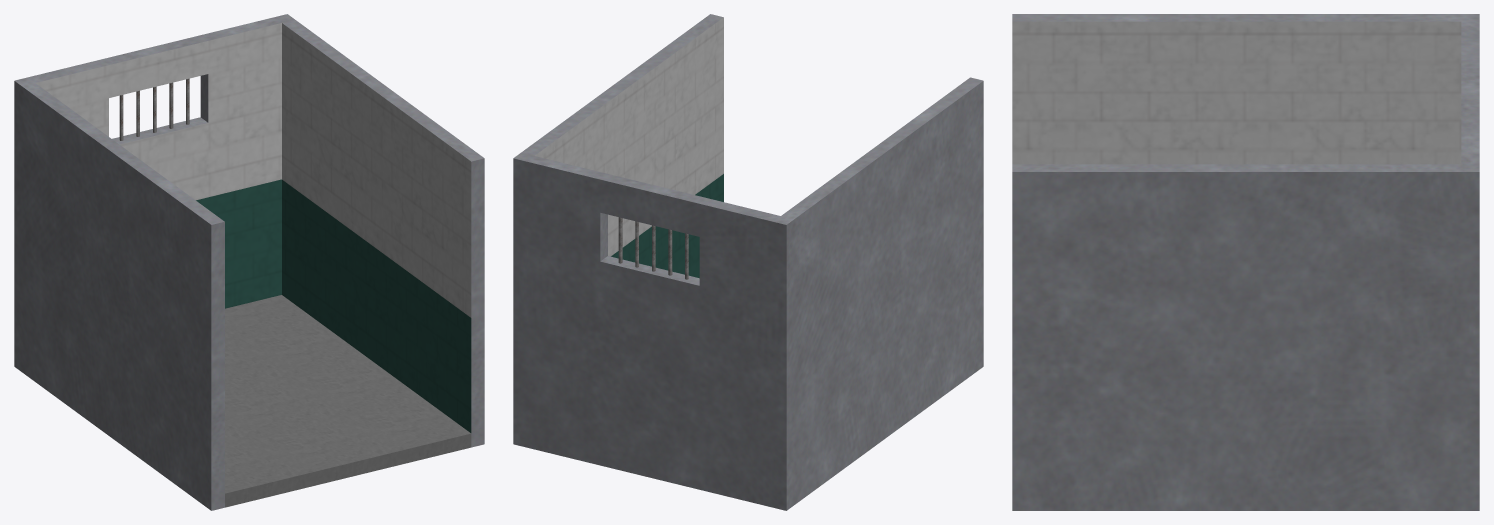
Rendered from cell_w_win.fbx.
3 views of the same model, side by side, from view 1: azimuth 30°, elevation 25°; view 2: azimuth 150°, elevation 25°; view 3: azimuth 270°, elevation 25° (orthographic). The views are drawn at different scales.
Parts seen in each view (by area): view 1: cell_w_win; view 2: cell_w_win; view 3: cell_w_win.
Boxes of the visible parts, x1,y1,x2,y2 form: cell_w_win: [14, 14, 484, 510]; cell_w_win: [513, 14, 983, 510]; cell_w_win: [1012, 14, 1479, 510].
Bounding box in the file's own units: 400 × 400 × 500.
1 material, 1 textured.
